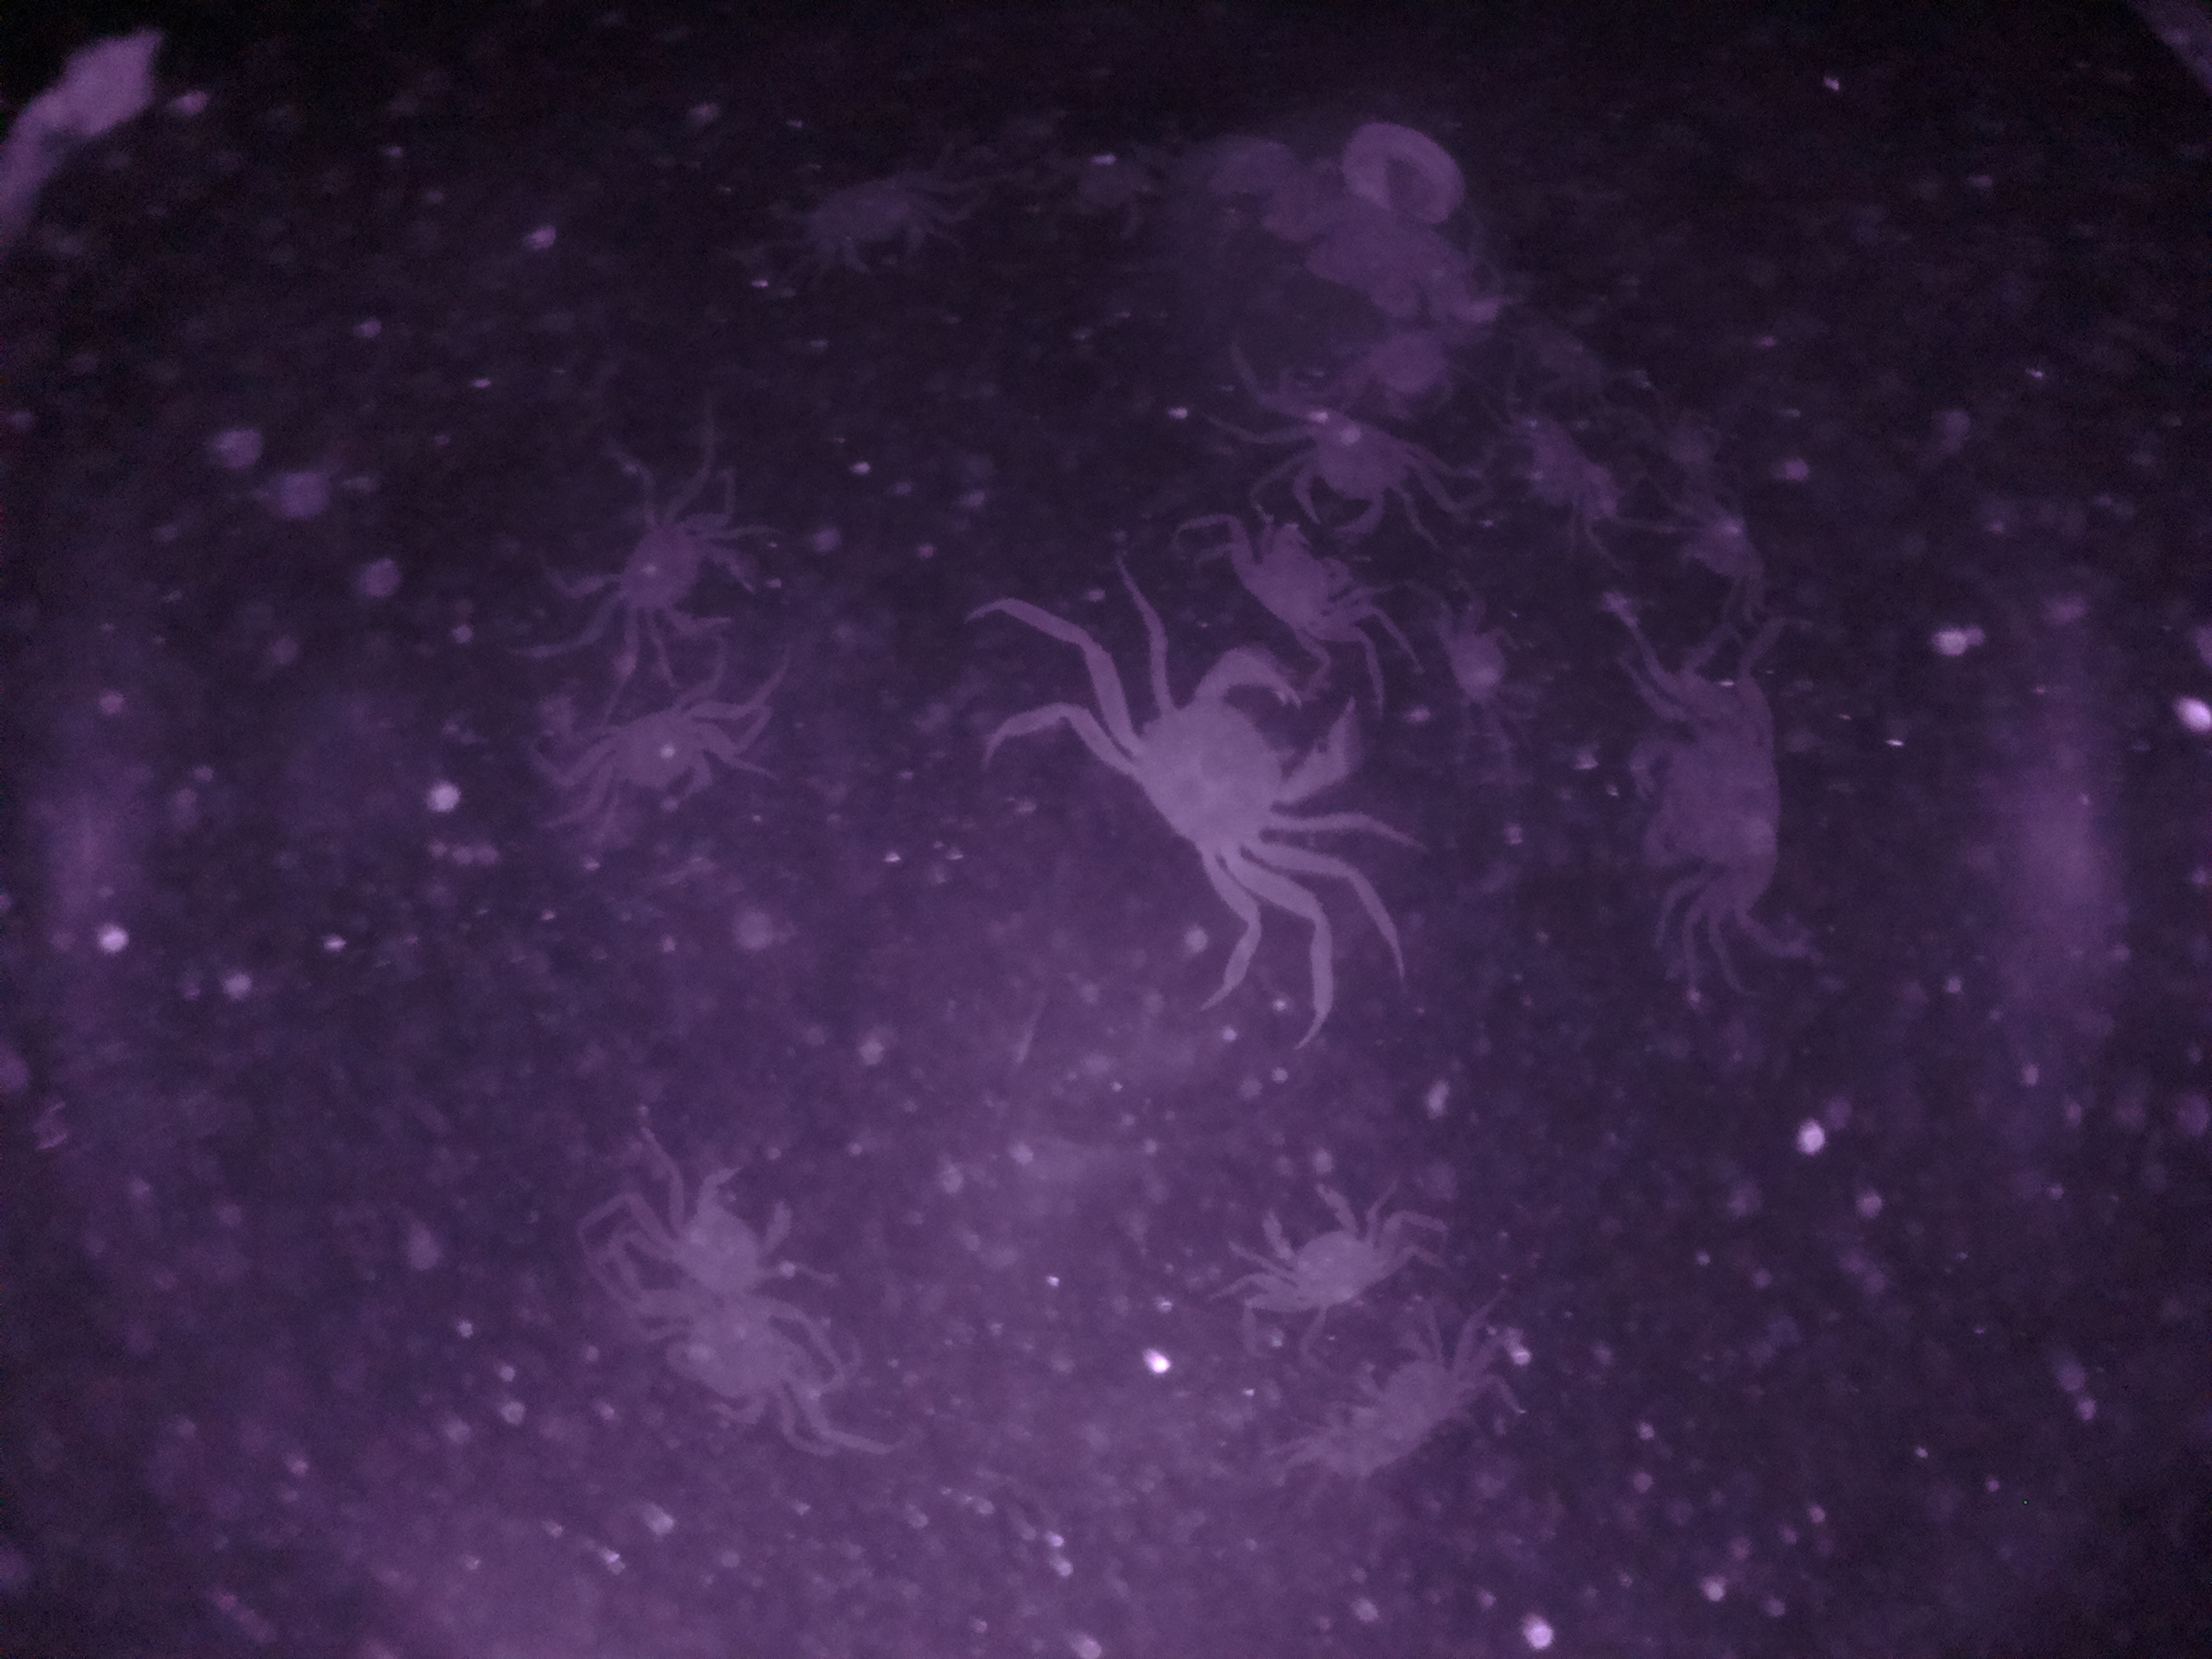Crab: (1068, 653, 1367, 897), (1604, 669, 1815, 936), (1219, 1166, 1423, 1337), (570, 498, 782, 650), (550, 695, 763, 838), (1266, 385, 1456, 540), (1211, 500, 1362, 645)
